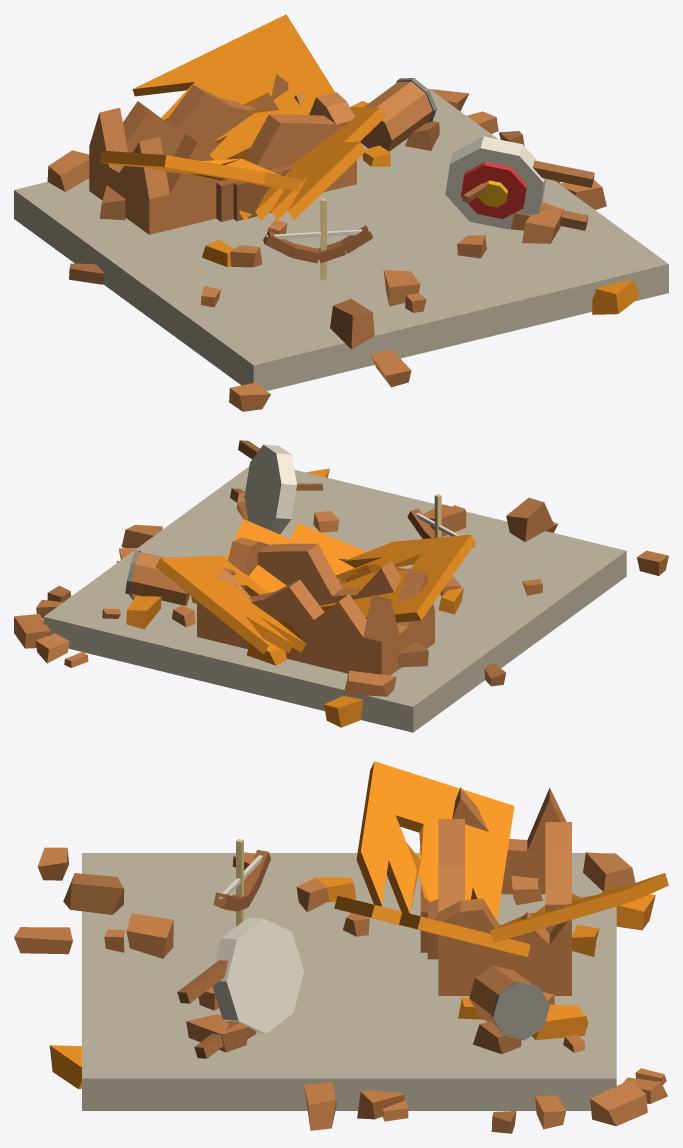
The model's file is archery_range_t1_v1_dmg2.glb.
3 renders of one model, top to bottom at view 1: azimuth 30°, elevation 25°; view 2: azimuth 150°, elevation 25°; view 3: azimuth 270°, elevation 25°, orthographic. The views are drawn at different scales.
Parts seen in each view (by area): view 1: archery_range_t1_v1_dmg2; view 2: archery_range_t1_v1_dmg2; view 3: archery_range_t1_v1_dmg2.
Part boxes in pixels (<box>): archery_range_t1_v1_dmg2: <box>14,14,668,411</box>; archery_range_t1_v1_dmg2: <box>14,440,668,732</box>; archery_range_t1_v1_dmg2: <box>14,761,668,1133</box>.
Bounding box in the file's own units: 0.7063 × 0.183 × 0.7352.
Materials: 1 (1 with a texture image).
